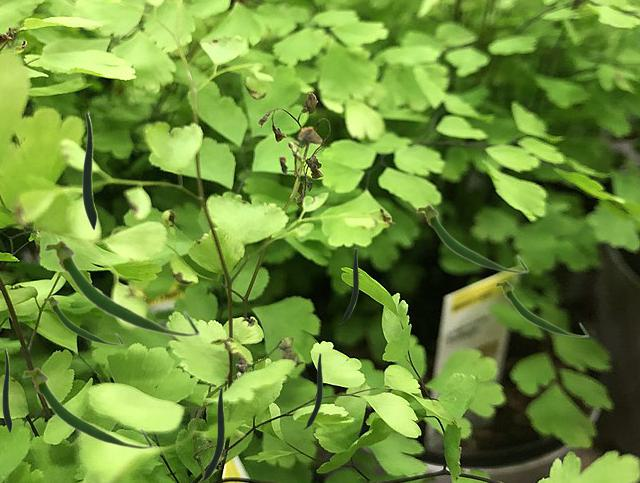french_bean: (42, 239, 200, 337), (21, 367, 153, 449), (415, 203, 528, 273), (494, 279, 588, 337), (42, 295, 123, 345), (199, 387, 223, 481), (82, 111, 96, 229), (303, 353, 321, 428), (339, 248, 357, 323), (2, 348, 11, 432)
